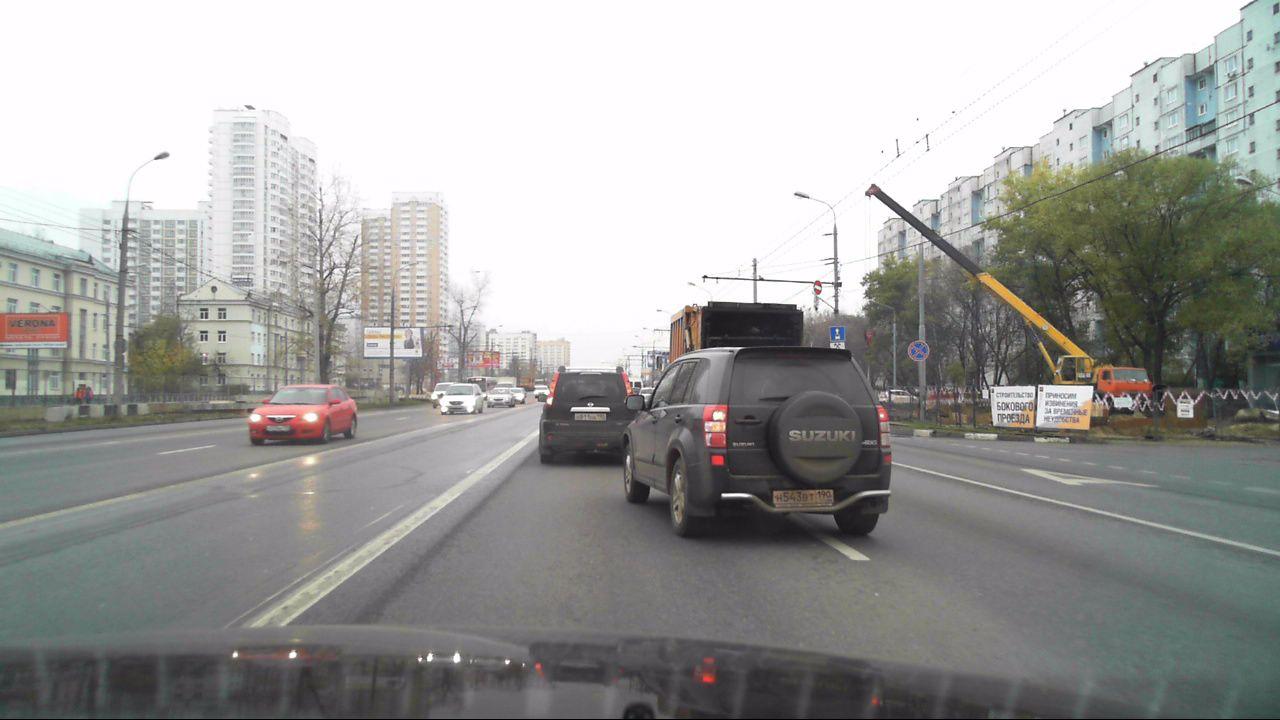No Parking: (908, 339, 929, 361)
